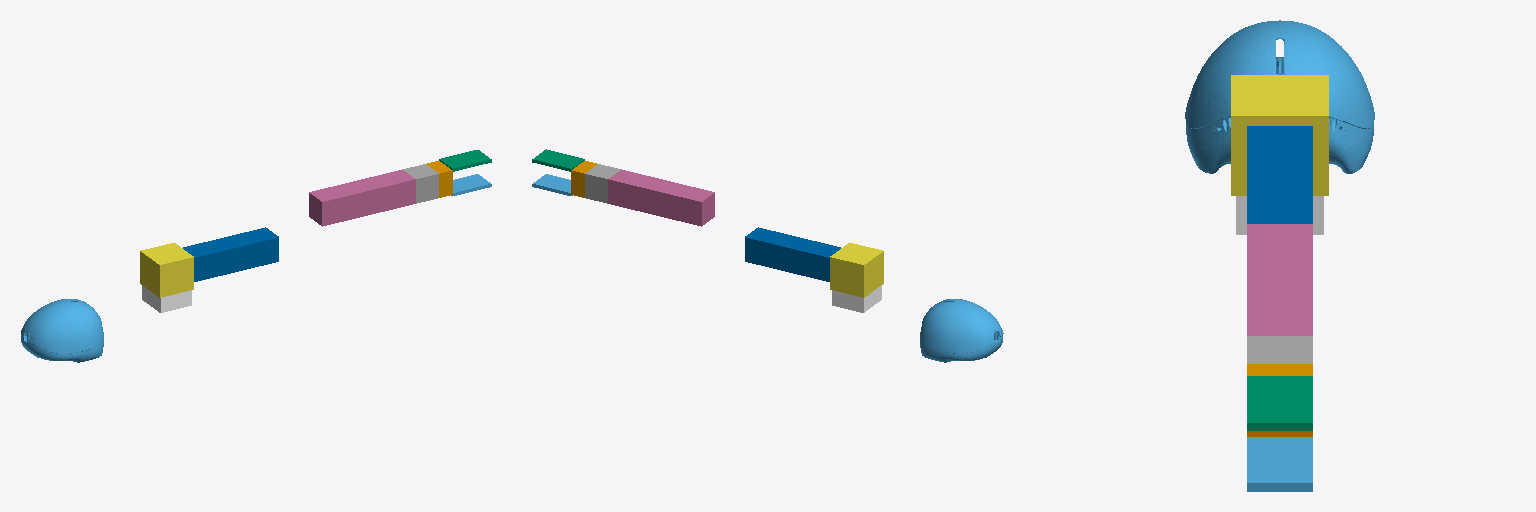
The robot description file, URDF, robot "spot":
<?xml version="1.0" ?>
<robot name="spot" xmlns:xacro="http://www.ros.org/wiki/xacro">
    <link name="ground">
    <tag part="base"/>
    </link>
    
    <joint name="ground_link_joint" type="fixed">
            <origin xyz="0 0 0.69" rpy="0 0 0" />
            <parent link="ground" />
            <child link="body" />
    </joint>
    
    <link name="body">
        <visual>
            <geometry>
                <mesh filename="meshes/body.dae" />
            </geometry>
        </visual>
        <collision>
            <geometry>
                <mesh filename="meshes/body_collision.stl" />
            </geometry>
        </collision>
    </link>

    <link name="base_link"/>
    <joint name="base_link_joint" type="fixed">
        <origin xyz="0 0 0" rpy="0 0 0" />
        <parent link="body" />
        <child link="base_link" />
    </joint>
    
    <link name="head_link">
        <tag part="head"/>
        <sensor>
           <type name="camera"/>
           <type name="audio_source"/>
           <type name="microphone"/>
        </sensor>
    </link>
    <joint name="head_link_joint" type="fixed">
        <origin xyz="0.4 0 0" rpy="0 0 0" />
        <parent link="base_link" />
        <child link="head_link" />
    </joint>

    <link name="front_rail"/>
    <joint name="front_rail_joint" type="fixed">
        <origin xyz="0.223 0 0.0805" rpy="0 0 0" />
        <parent link="body" />
        <child link="front_rail" />
    </joint>

    <link name="rear_rail"/>
    <joint name="rear_rail_joint" type="fixed">
        <origin xyz="-0.223 0 0.0805" rpy="0 0 0" />
        <parent link="body" />
        <child link="rear_rail" />
    </joint>

    <link name="front_left_hip">
        <visual>
            <geometry>
                <mesh filename="meshes/front_left_hip.dae" />
            </geometry>
        </visual>
        <collision>
            <geometry>
                <mesh filename="meshes/front_left_hip_collision.stl" />
            </geometry>
        </collision>
    </link>
    <joint name="front_left_hip_x" type="revolute">
        <origin xyz="0.29785 0.05500 0.00000" rpy="0 0 0" />
        <axis xyz="1 0 0" />
        <parent link="body" />
        <child link="front_left_hip" />
        <limit effort="1000" velocity="1000.00" lower="-0.78539816339744827899" upper="0.78539816339744827899" />
    </joint>
    <link name="front_left_upper_leg">
        <visual>
            <geometry>
                <mesh filename="meshes/front_left_upper_leg.dae" />
            </geometry>
        </visual>
        <collision>
            <geometry>
                <mesh filename="meshes/front_left_upper_leg_collision.stl" />
            </geometry>
        </collision>
    </link>
    <joint name="front_left_hip_y" type="revolute">
        <origin xyz="0.0 0.110945 0.0" rpy="0 0 0" />
        <axis xyz="0 1 0" />
        <parent link="front_left_hip" />
        <child link="front_left_upper_leg" />
        <limit effort="1000" velocity="1000.00" lower="-0.89884456477707963539" upper="2.2951079663725435509" />
    </joint>
    <link name="front_left_lower_leg">
        <visual>
            <geometry>
                <mesh filename="meshes/front_left_lower_leg.dae" />
            </geometry>
        </visual>
        <collision>
            <geometry>
                <mesh filename="meshes/front_left_lower_leg_collision.stl" />
            </geometry>
        </collision>
    </link>
    <joint name="front_left_knee" type="revolute">
        <origin xyz="0.025 0.000 -0.3205" rpy="0 0 0" />
        <axis xyz="0 1 0" />
        <parent link="front_left_upper_leg" />
        <child link="front_left_lower_leg" />
        <limit effort="1000" velocity="1000.00" lower="-2.7929" upper="-0.254801" />
    </joint>
    <link name="front_right_hip">
        <visual>
            <geometry>
                <mesh filename="meshes/front_right_hip.dae" />
            </geometry>
        </visual>
        <collision>
            <geometry>
                <mesh filename="meshes/front_right_hip_collision.stl" />
            </geometry>
        </collision>
    </link>
    <joint name="front_right_hip_x" type="revolute">
        <origin xyz="0.29785 -0.05500 0.00000" rpy="0 0 0" />
        <axis xyz="1 0 0" />
        <parent link="body" />
        <child link="front_right_hip" />
        <limit effort="1000" velocity="1000.00" lower="-0.78539816339744827899" upper="0.78539816339744827899" />
    </joint>
    <link name="front_right_upper_leg">
        <visual>
            <geometry>
                <mesh filename="meshes/front_right_upper_leg.dae" />
            </geometry>
        </visual>
        <collision>
            <geometry>
                <mesh filename="meshes/front_right_upper_leg_collision.stl" />
            </geometry>
        </collision>
    </link>
    <joint name="front_right_hip_y" type="revolute">
        <origin xyz="0.0 -0.110945 0.0" rpy="0 0 0" />
        <axis xyz="0 1 0" />
        <parent link="front_right_hip" />
        <child link="front_right_upper_leg" />
        <limit effort="1000" velocity="1000.00" lower="-0.89884456477707963539" upper="2.2951079663725435509" />
    </joint>
    <link name="front_right_lower_leg">
        <visual>
            <geometry>
                <mesh filename="meshes/front_right_lower_leg.dae" />
            </geometry>
        </visual>
        <collision>
            <geometry>
                <mesh filename="meshes/front_right_lower_leg_collision.stl" />
            </geometry>
        </collision>
    </link>
    <joint name="front_right_knee" type="revolute">
        <origin xyz="0.025 0.000 -0.3205" rpy="0 0 0" />
        <axis xyz="0 1 0" />
        <parent link="front_right_upper_leg" />
        <child link="front_right_lower_leg" />
        <limit effort="1000" velocity="1000.00" lower="-2.7929" upper="-0.247563" />
    </joint>
    <link name="rear_left_hip">
        <visual>
            <geometry>
                <mesh filename="meshes/rear_left_hip.dae" />
            </geometry>
        </visual>
        <collision>
            <geometry>
                <mesh filename="meshes/rear_left_hip_collision.stl" />
            </geometry>
        </collision>
    </link>
    <joint name="rear_left_hip_x" type="revolute">
        <origin xyz="-0.29785 0.05500 0.00000" rpy="0 0 0" />
        <axis xyz="1 0 0" />
        <parent link="body" />
        <child link="rear_left_hip" />
        <limit effort="1000" velocity="1000.00" lower="-0.78539816339744827899" upper="0.78539816339744827899" />
    </joint>
    <link name="rear_left_upper_leg">
        <visual>
            <geometry>
                <mesh filename="meshes/rear_left_upper_leg.dae" />
            </geometry>
        </visual>
        <collision>
            <geometry>
                <mesh filename="meshes/rear_left_upper_leg_collision.stl" />
            </geometry>
        </collision>
    </link>
    <joint name="rear_left_hip_y" type="revolute">
        <origin xyz="0.0 0.110945 0.0" rpy="0 0 0" />
        <axis xyz="0 1 0" />
        <parent link="rear_left_hip" />
        <child link="rear_left_upper_leg" />
        <limit effort="1000" velocity="1000.00" lower="-0.89884456477707963539" upper="2.2951079663725435509" />
    </joint>
    <link name="rear_left_lower_leg">
        <visual>
            <geometry>
                <mesh filename="meshes/rear_left_lower_leg.dae" />
            </geometry>
        </visual>
        <collision>
            <geometry>
                <mesh filename="meshes/rear_left_lower_leg_collision.stl" />
            </geometry>
        </collision>
    </link>
    <joint name="rear_left_knee" type="revolute">
        <origin xyz="0.025 0.000 -0.3205" rpy="0 0 0" />
        <axis xyz="0 1 0" />
        <parent link="rear_left_upper_leg" />
        <child link="rear_left_lower_leg" />
        <limit effort="1000" velocity="1000.00" lower="-2.7929" upper="-0.267153" />
    </joint>
    <link name="rear_right_hip">
        <visual>
            <geometry>
                <mesh filename="meshes/rear_right_hip.dae" />
            </geometry>
        </visual>
        <collision>
            <geometry>
                <mesh filename="meshes/rear_right_hip_collision.stl" />
            </geometry>
        </collision>
    </link>
    <joint name="rear_right_hip_x" type="revolute">
        <origin xyz="-0.29785 -0.05500 0.00000" rpy="0 0 0" />
        <axis xyz="1 0 0" />
        <parent link="body" />
        <child link="rear_right_hip" />
        <limit effort="1000" velocity="1000.00" lower="-0.78539816339744827899" upper="0.78539816339744827899" />
    </joint>
    <link name="rear_right_upper_leg">
        <visual>
            <geometry>
                <mesh filename="meshes/rear_right_upper_leg.dae" />
            </geometry>
        </visual>
        <collision>
            <geometry>
                <mesh filename="meshes/rear_right_upper_leg_collision.stl" />
            </geometry>
        </collision>
    </link>
    <joint name="rear_right_hip_y" type="revolute">
        <origin xyz="0.0 -0.110945 0.0" rpy="0 0 0" />
        <axis xyz="0 1 0" />
        <parent link="rear_right_hip" />
        <child link="rear_right_upper_leg" />
        <limit effort="1000" velocity="1000.00" lower="-0.89884456477707963539" upper="2.2951079663725435509" />
    </joint>
    <link name="rear_right_lower_leg">
        <visual>
            <geometry>
                <mesh filename="meshes/rear_right_lower_leg.dae" />
            </geometry>
        </visual>
        <collision>
            <geometry>
                <mesh filename="meshes/rear_right_lower_leg_collision.stl" />
            </geometry>
        </collision>
    </link>
    <joint name="rear_right_knee" type="revolute">
        <origin xyz="0.025 0.000 -0.3205" rpy="0 0 0" />
        <axis xyz="0 1 0" />
        <parent link="rear_right_upper_leg" />
        <child link="rear_right_lower_leg" />
        <limit effort="1000" velocity="1000.00" lower="-2.7929" upper="-0.257725" />
    </joint>
    
    <joint name="arm_mount_joint" type="fixed">
          <parent link="base_link"/>
          <child link="arm_mount"/>
          <origin xyz="0.3 0 0.0842" rpy="0 0 0"/>
    </joint>
        
    <link name="arm_mount">
          <visual>
            <geometry>
              <box size="0.1 0.1 0.05"/>
            </geometry>
            <origin rpy="0 0 0" xyz="0 0 0.025"/>
            <material name="Black">
                    <color rgba="1.0 1.0 1.0 1.0"/>
            </material>
          </visual>
          <collision>
            <geometry>
              <box size="0.1 0.1 0.05"/>
            </geometry>
          </collision>
    </link>
    
    <joint name="joint_1" type="revolute">
        <parent link="arm_mount"/>
        <child link="joint_1_link"/>
        <origin rpy="0 0 3.14159" xyz="0 0 0.05"/>
        <axis xyz="0 0 1"/>
        <limit effort="150.0" lower="-2.61799" upper="3.14159" velocity="3.15"/>
        <dynamics damping="0.0" friction="0.0"/>
    </joint>

    <link name="joint_1_link">
        <visual>
           <geometry>
             <box size="0.11 0.11 0.1"/>
           </geometry>
           <origin rpy="0 0 0" xyz="0 0 0.05"/>
        </visual>
        <collision>
           <geometry>
             box size="0.11 0.11 0.1"/>
           </geometry>
           <origin rpy="0 0 0" xyz="0 0 0.05"/>
        </collision>
    </link>
     
    <joint name="joint_2" type="revolute">
         <parent link="joint_1_link"/>
         <child link="joint_2_link"/>
         <origin rpy="0 -1.5708 0" xyz="0 0 0.05"/>
         <axis xyz="0 -1 0"/>
         <limit effort="150.0" lower="-3.14159" upper="0.5236" velocity="3.15"/>
         <dynamics damping="0.0" friction="0.0"/>
    </joint>
    
   <link name="joint_2_link">
       <visual>
          <geometry>
            <box size="0.3385 0.075 0.075"/>
          </geometry>
          <origin rpy="0 1.5708 0" xyz="0 0 0.16925"/>
       </visual>
       <collision>
          <geometry>
            <box size="0.3385 0.075 0.075"/>
          </geometry>
          <origin rpy="0 1.5708 0" xyz="0 0 0.16925"/>
       </collision>
   </link>
   
    <joint name="joint_3" type="revolute">
         <parent link="joint_2_link"/>
         <child link="joint_3_link"/>
         <origin rpy="0 3.14159 0" xyz="0 0 0.3385"/>
         <axis xyz="0 -1 0"/>
         <limit effort="150.0" lower="0" upper="3.1415" velocity="3.15"/>
         <dynamics damping="0.0" friction="0.0"/>
    </joint>
    
   <link name="joint_3_link"/>
   
   <joint name="joint_4" type="revolute">
            <parent link="joint_3_link"/>
            <child link="joint_4_link"/>
            <origin rpy="0 0 1.5708" xyz="-0.075 0 -0.1375"/>
            <axis xyz="0 0 -1"/>
            <limit effort="150.0" lower="-2.79253" upper="2.79253" velocity="3.15"/>
            <dynamics damping="0.0" friction="0.0"/>
   </joint>
   
  <link name="joint_4_link">
      <visual>
         <geometry>
            <box size="0.300 0.075 0.075"/>
         </geometry>
         <origin rpy="0 1.5708 0" xyz="0 0 -0.15"/>
      </visual>
      <collision>
         <geometry>
            <box size="0.300 0.075 0.075"/>
         </geometry>
         <origin rpy="0 1.5708 -0.349066" xyz="0 0 -0.15"/>
      </collision>
  </link>
  
  <joint name="joint_5" type="revolute">
      <parent link="joint_4_link"/>
      <child link="joint_5_link"/>
      <origin rpy="0 0 0" xyz="0 0 -0.3"/>
      <axis xyz="-1 0 0"/>
      <limit effort="150.0" lower="-1.8326" upper="1.8326" velocity="3.15"/>
      <dynamics damping="0.0" friction="0.0"/>
  </joint>

  <link name="joint_5_link">
      <visual>
         <geometry>
            <box size="0.075 0.075 0.075"/>
         </geometry>
         <origin rpy="0 0 0" xyz="0 0 -0.0375"/>
      </visual>
      <collision>
         <geometry>
            <box size="0.075 0.075 0.075"/>
         </geometry>
         <origin rpy="0 0 0" xyz="0 0 0"/>
      </collision>
  </link>
  
  <joint name="joint_6" type="revolute">
        <parent link="joint_5_link"/>
        <child link="joint_6_link"/>
        <origin rpy="0 0 0" xyz="0 0 -0.075"/>
        <axis xyz="0 0 1"/>
        <limit effort="150.0" lower="-2.87979" upper="2.87979" velocity="3.15"/>
        <dynamics damping="0.0" friction="0.0"/>
    </joint>
  
    <link name="joint_6_link">
        <visual>
           <geometry>
              <box size="0.075 0.075 0.04245"/>
           </geometry>
           <origin rpy="0 0 0" xyz="0 0 -0.021225"/>
        </visual>
        <collision>
           <geometry>
              <box size="0.075 0.075 0.075"/>
           </geometry>
           <origin rpy="0 0 0" xyz="0 0 0"/>
        </collision>
    </link>
    
    <joint name="joint_7" type="revolute">
        <parent link="joint_6_link"/>
        <child link="joint_7_link"/>
        <origin rpy="0 0 0" xyz="0 -0.0375 -0.04245"/>
        <axis xyz="-1 0 0"/>
        <limit effort="150.0" lower="0" upper="1.5708" velocity="3.15"/>
        <dynamics damping="0.0" friction="0.0"/>
    </joint>
      
  <link name="joint_7_link">
     <visual>
       <geometry>
          <box size="0.075 0.01 0.12482"/>
       </geometry>
       <origin rpy="0 0 0" xyz="0 0 -0.06241"/>
    </visual>
    <collision>
       <geometry>
          <box size="0.075 0.01 0.12482"/>
       </geometry>
       <origin rpy="0 0 0" xyz="0 0 -0.06241"/>
    </collision>
  </link>
        
  <joint name="fixed_jaw" type="fixed">
       <parent link="joint_6_link"/>
       <child link="fixed_jaw_link"/>
       <origin rpy="0 0 0" xyz="0 0.0375 -0.04245"/>
  </joint>
         
  <link name="fixed_jaw_link">
       <visual>
          <geometry>
             <box size="0.075 0.01 0.12482"/>
          </geometry>
          <origin rpy="0 0 0" xyz="0 0 -0.06241"/>
       </visual>
       <collision>
          <geometry>
             <box size="0.075 0.01 0.12482"/>
          </geometry>
          <origin rpy="0 0 0" xyz="0 0 -0.06241"/>
       </collision>
  </link>
  
  <joint name="grab_point" type="fixed">
         <parent link="joint_6_link"/>
         <child link="grab_point_link"/>
         <origin rpy="0 0 0" xyz="0 0 -0.062415"/>
  </joint>
    
 <link name="grab_point_link">
    <objective>
         <type name="position" weight="100" xyz="0 0 0" />
         <type name="orientation" weight="300" rpy="0 -90 90"/>
    </objective>
    <tag part="right_hand"/>
 </link>
 
</robot>

--- Render facts (derived) ---
3 views of the same robot in one strip: view 1: azimuth 30°, elevation 25°; view 2: azimuth 150°, elevation 25°; view 3: azimuth 270°, elevation 25° (orthographic).
Model spot with 28 links and 27 joints (19 revolute, 8 fixed), rooted at ground, posed all joints at 0 but 4 set to mid-range because 0 is outside their limits (front_left_knee = -1.52, front_right_knee = -1.52, rear_left_knee = -1.53, rear_right_knee = -1.53).
Links seen in each view (by area): view 1: body, joint_4_link, joint_2_link, joint_1_link, joint_5_link, arm_mount, fixed_jaw_link, joint_7_link; view 2: body, joint_4_link, joint_2_link, joint_1_link, joint_5_link, arm_mount, fixed_jaw_link, joint_7_link; view 3: body, joint_4_link, joint_1_link, joint_2_link, joint_7_link, fixed_jaw_link, joint_5_link, joint_6_link, arm_mount.
Boxes of the visible links, box(x1,y1,x2,y2) form: body: box(21, 299, 103, 362); joint_4_link: box(309, 170, 415, 226); joint_2_link: box(183, 227, 278, 281); joint_1_link: box(140, 243, 193, 297); joint_5_link: box(402, 164, 438, 203); arm_mount: box(142, 285, 191, 312); fixed_jaw_link: box(439, 150, 491, 171); joint_7_link: box(451, 174, 491, 195); body: box(920, 299, 1003, 362); joint_4_link: box(608, 169, 714, 226); joint_2_link: box(745, 227, 840, 281); joint_1_link: box(830, 243, 883, 297); joint_5_link: box(585, 164, 620, 203); arm_mount: box(832, 285, 881, 312); fixed_jaw_link: box(532, 149, 584, 171); joint_7_link: box(532, 174, 572, 195); body: box(1185, 20, 1374, 173); joint_4_link: box(1247, 224, 1312, 335); joint_1_link: box(1231, 75, 1328, 195); joint_2_link: box(1247, 126, 1312, 223); joint_7_link: box(1247, 437, 1312, 491); fixed_jaw_link: box(1247, 376, 1312, 430); joint_5_link: box(1247, 336, 1312, 363); joint_6_link: box(1247, 364, 1312, 436); arm_mount: box(1236, 196, 1323, 234).
Bounding box of the posed robot: 1.47 × 0.2136 × 0.2902 m (x, y, z).
Meshes: 13 distinct files referenced, 1 mesh visuals loaded (1 Collada DAE); not drawn: 12 (reference not matched to a file when rendering).